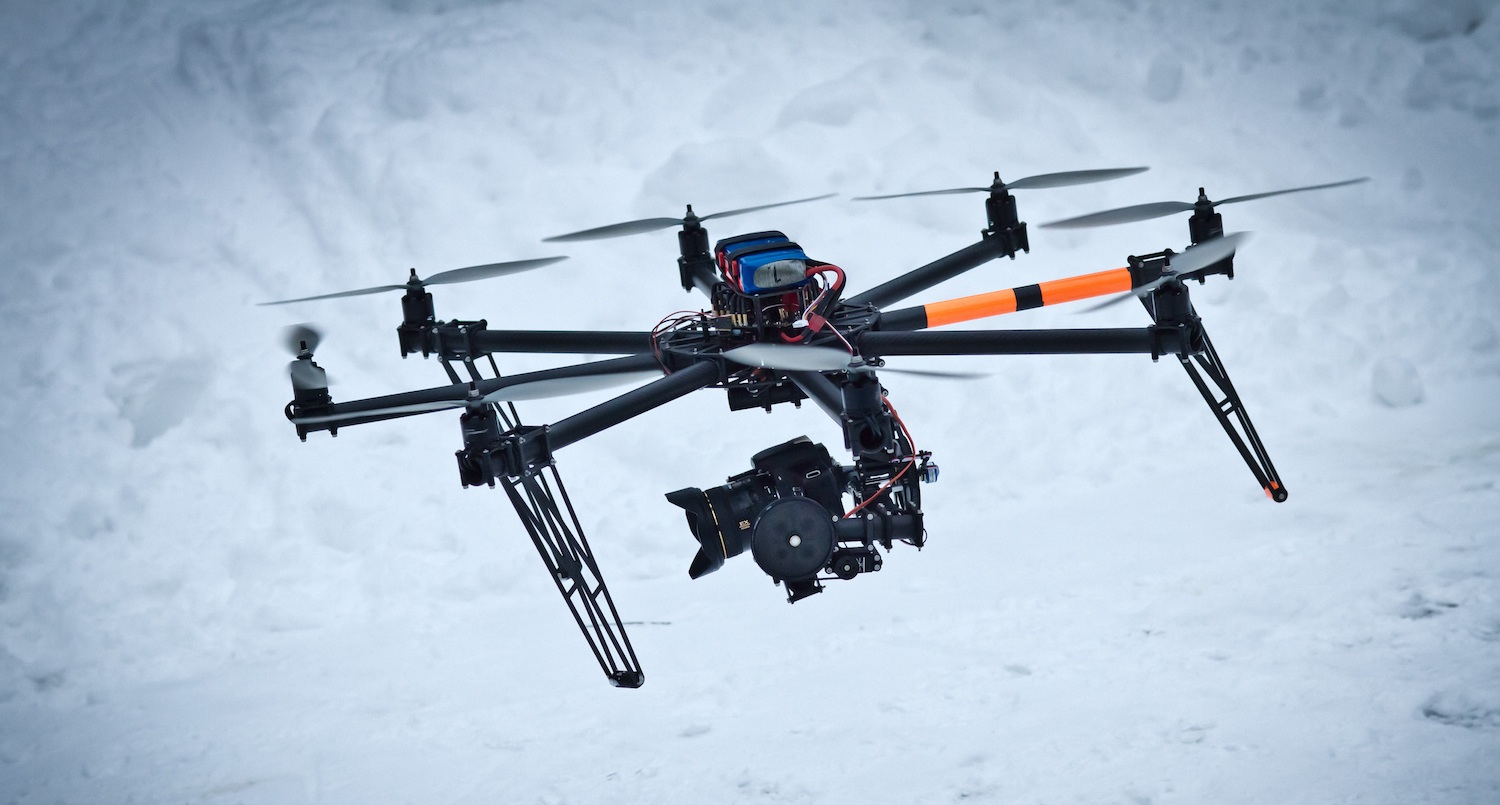drone: (246, 162, 1379, 695)
